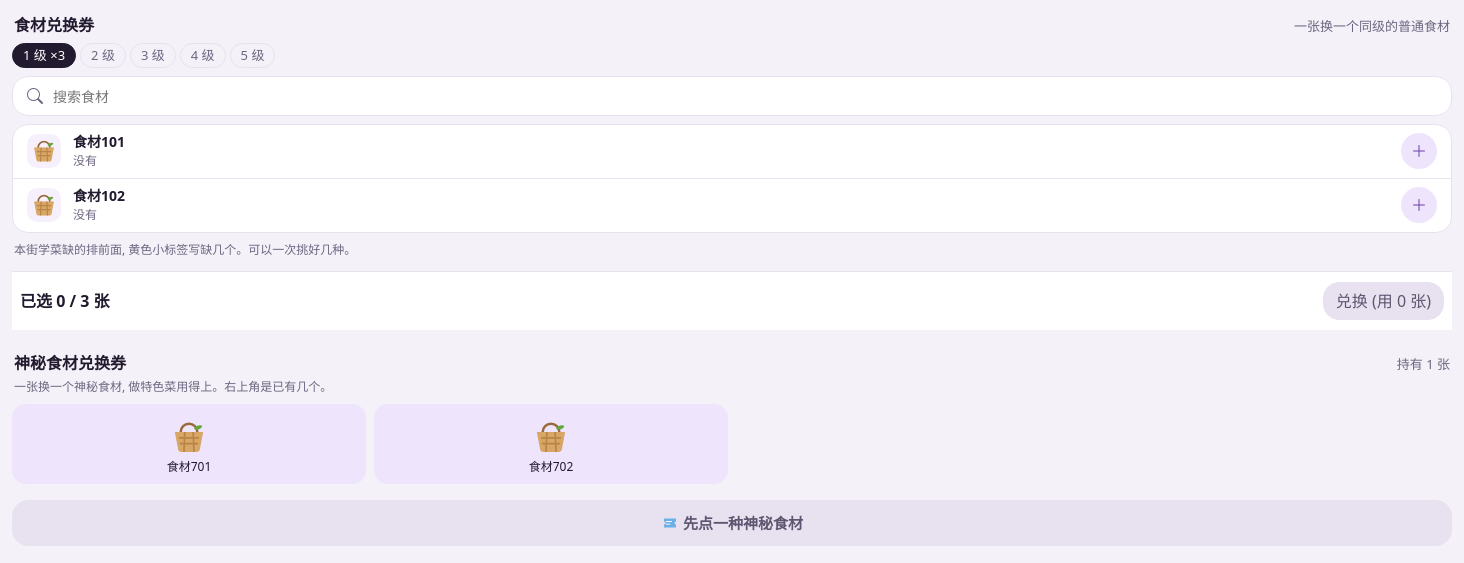
Scenario: TicketPanel › 兑换请求进行中加减、数量都不能动：兑换完会清空，点了也会被盖掉（491 遗留）
Click the button with test id "lt-add-101" at {"x": 1419, "y": 151}, box 1401,133 -> 1437,169
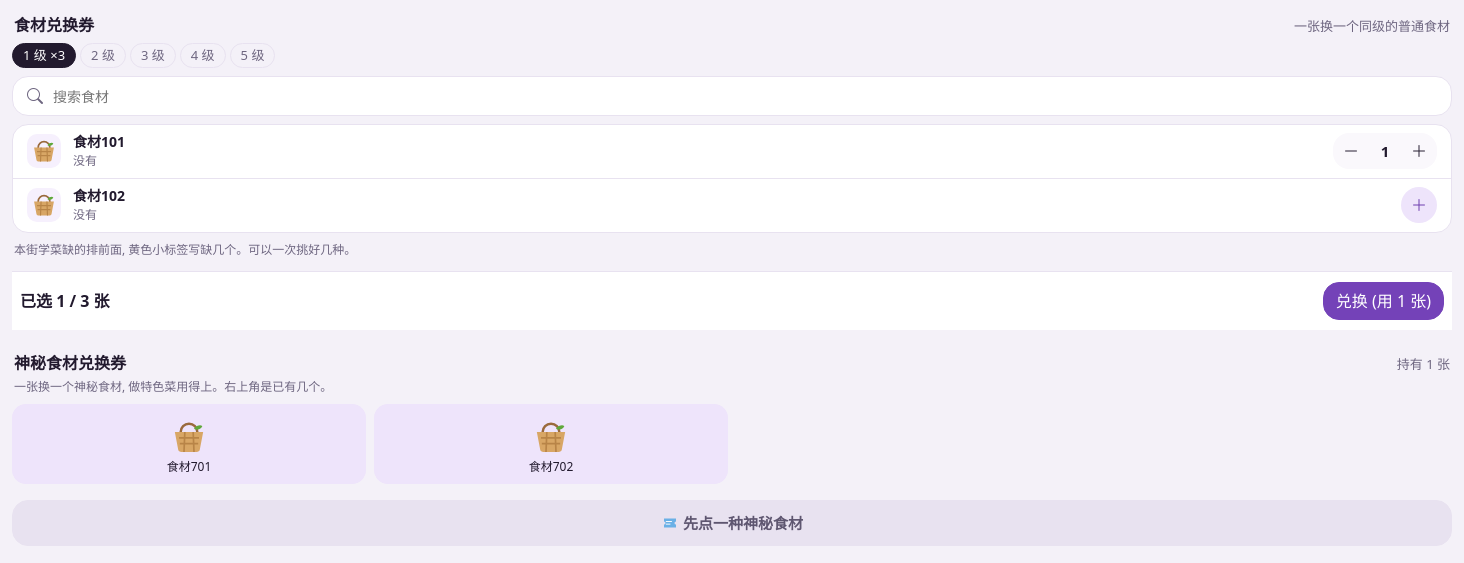
Click the button with test id "lt-go" at {"x": 1383, "y": 301}, box 1323,282 -> 1444,320
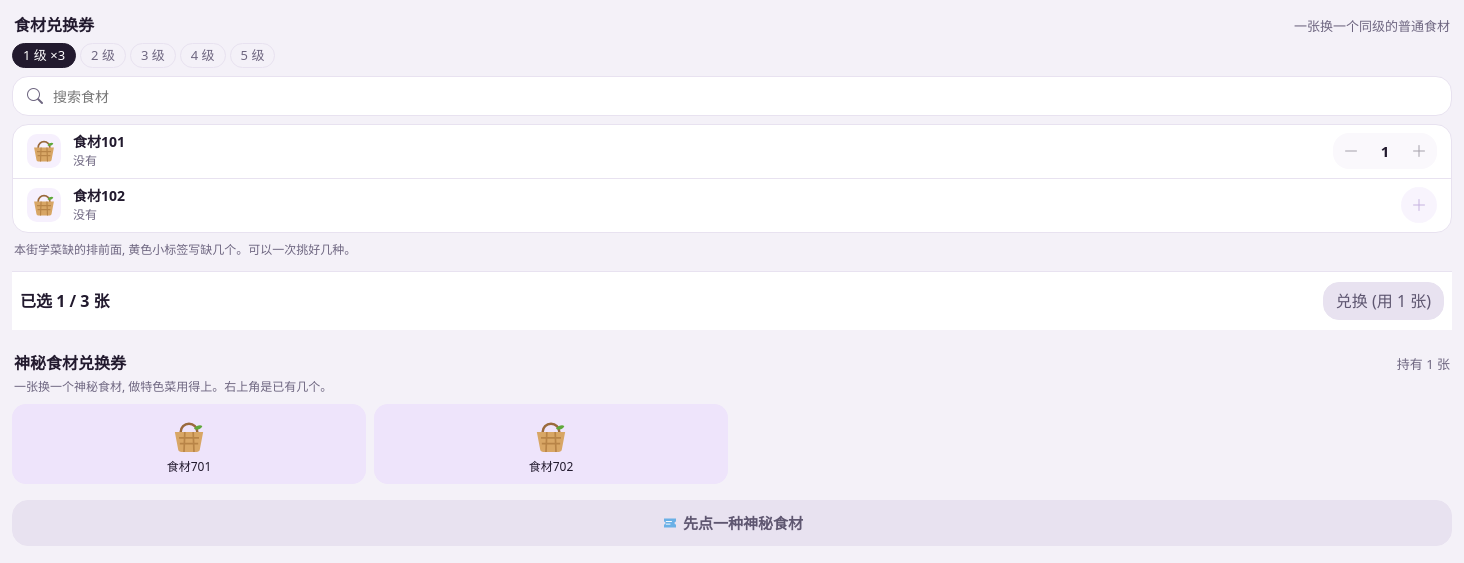
Check: the button with test id "lt-minus-101" is disabled, box 1333,133 -> 1369,169
Check: the button with test id "lt-add-101" is disabled, box 1401,133 -> 1437,169
